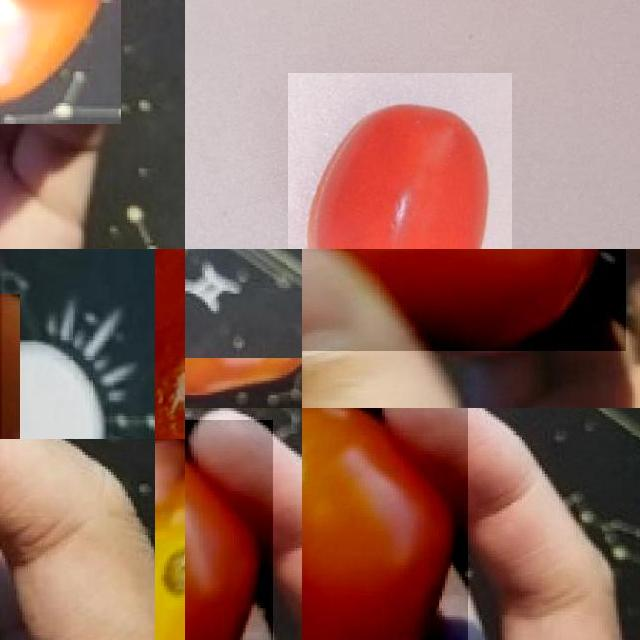0: (288, 73, 512, 249)
Fresh Tomato: (302, 408, 468, 640), (302, 249, 625, 350), (185, 420, 272, 640), (0, 0, 121, 124), (185, 358, 302, 408)
